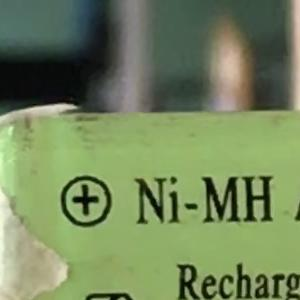keyword: (125, 166, 281, 234)
